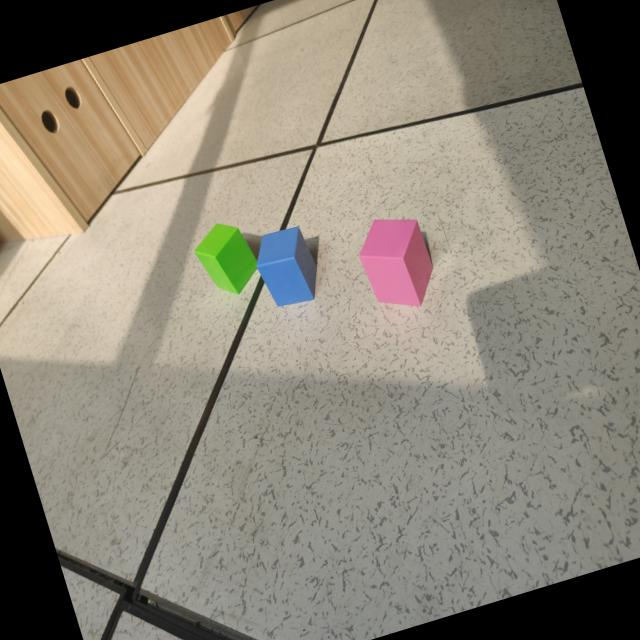blue: (253, 227, 318, 308)
green: (190, 222, 261, 294)
pink: (359, 219, 433, 309)
